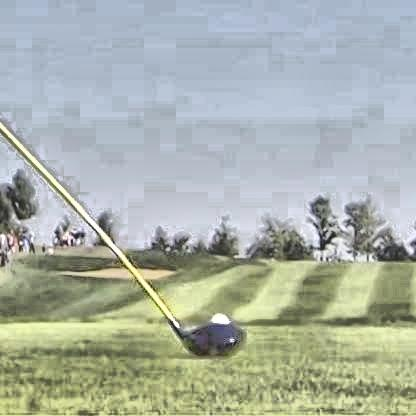golfball: (206, 312, 231, 336)
